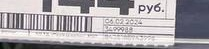1d: (1, 12, 94, 32)
